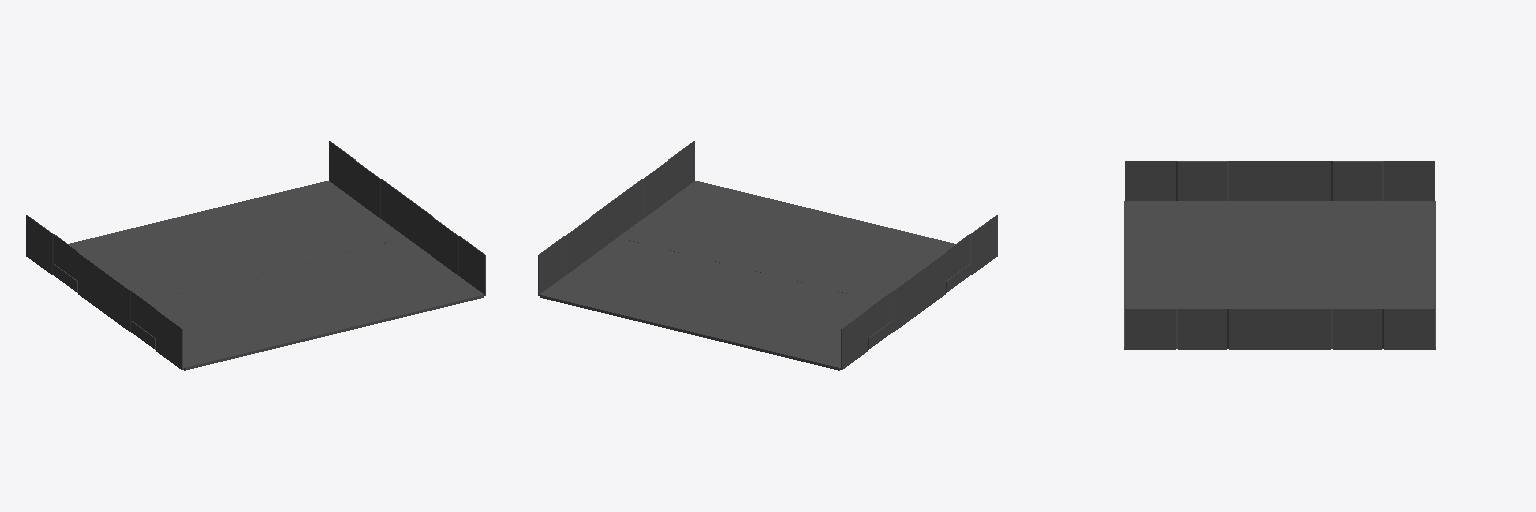
The model's file is IKEA.ART.10301960.obj.
3 views of the same model, side by side, from view 1: azimuth 30°, elevation 25°; view 2: azimuth 150°, elevation 25°; view 3: azimuth 270°, elevation 25° (orthographic).
Visible parts, largest first — view 1: model_model.006; view 2: model_model.006; view 3: model_model.006.
Part boxes in pixels (x1,y1,x2,y2): model_model.006: (26, 141, 485, 370); model_model.006: (538, 141, 997, 370); model_model.006: (1124, 161, 1435, 349).
Bounding box in the file's own units: 0.564 × 0.075 × 0.5022.